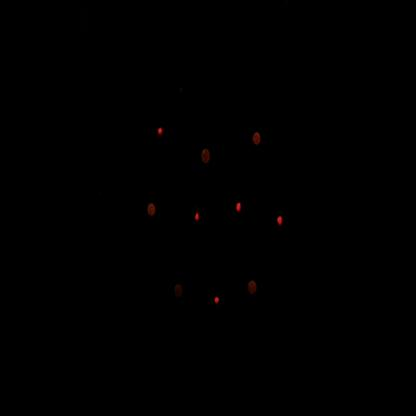PET: (272, 206, 290, 235), (230, 195, 250, 221), (210, 288, 227, 317), (155, 120, 171, 147), (190, 205, 206, 232)
PS: (143, 192, 163, 227), (246, 272, 261, 304), (250, 126, 266, 155), (172, 277, 189, 303), (200, 143, 214, 171)
